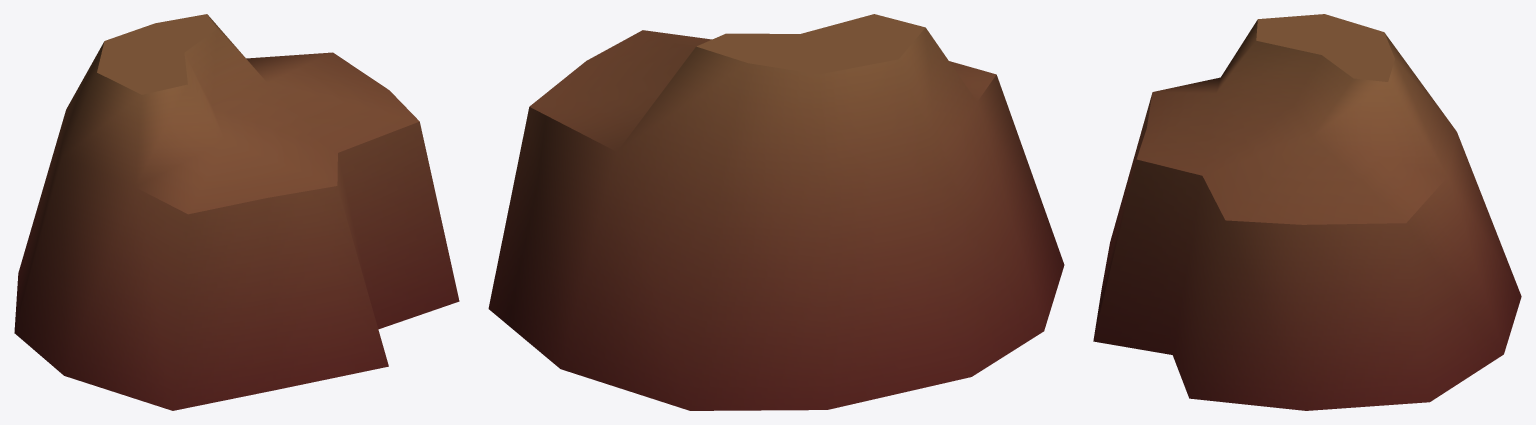
Rendered from Mountain_big.018.fbx.
3 views of the same model, side by side, from view 1: azimuth 30°, elevation 25°; view 2: azimuth 150°, elevation 25°; view 3: azimuth 270°, elevation 25° (orthographic). The views are drawn at different scales.
Visible parts, largest first — view 1: Mountain_big.018; view 2: Mountain_big.018; view 3: Mountain_big.018.
Boxes of the visible parts, box(x1,y1,x2,y2) form: Mountain_big.018: box(14, 14, 459, 410); Mountain_big.018: box(488, 14, 1064, 410); Mountain_big.018: box(1093, 14, 1521, 410).
Bounding box in the file's own units: 139 × 83.5 × 133.
